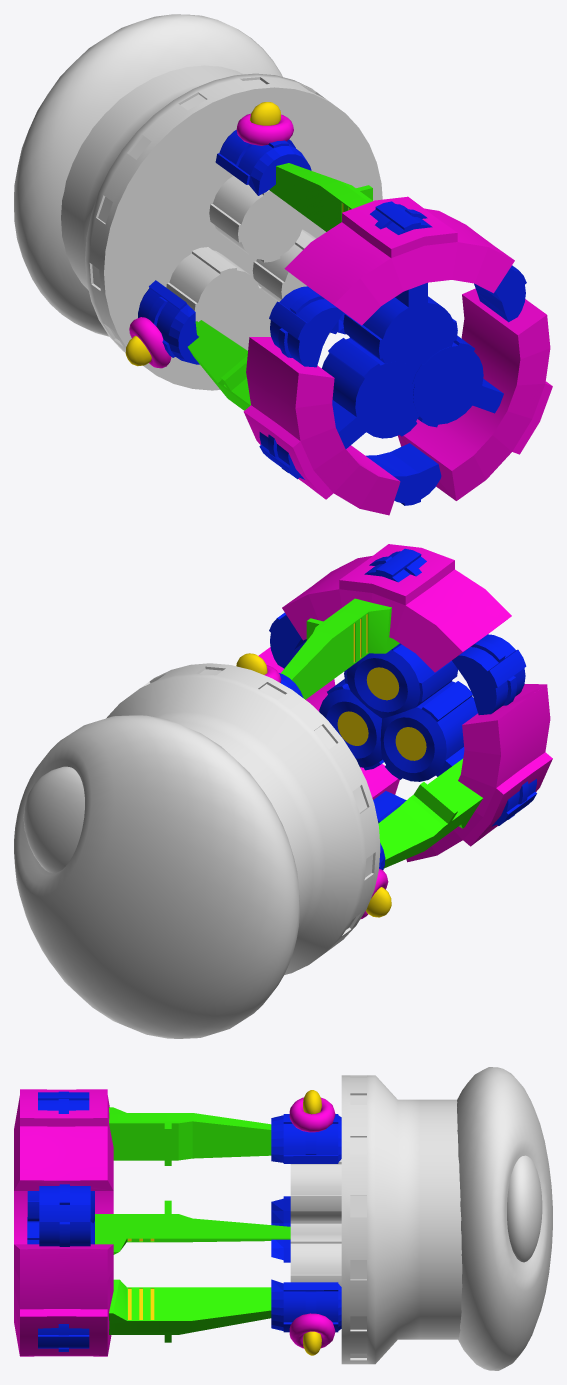
Rendered from RotWeaponShokai.FBX.
3 renders of one model, top to bottom at view 1: azimuth 30°, elevation 25°; view 2: azimuth 150°, elevation 25°; view 3: azimuth 270°, elevation 25°, orthographic. The views are drawn at different scales.
Parts seen in each view (by area): view 1: ParteRotatoria, Cylinder011, Box004, CanoDret, CanoDalt, CanoEsquerre; view 2: Cylinder011, ParteRotatoria, CanoDret, CanoDalt, Sphere002, CanoEsquerre; view 3: ParteRotatoria, Cylinder011, Box004, Sphere002, CanoDalt, CanoEsquerre.
Part boxes in pixels (x1,y1,x2,y2): ParteRotatoria: [125, 102, 552, 515]; Cylinder011: [14, 14, 382, 390]; Box004: [166, 176, 316, 339]; CanoDret: [322, 338, 419, 448]; CanoDalt: [343, 282, 457, 367]; CanoEsquerre: [412, 335, 503, 427]; Cylinder011: [14, 663, 380, 1038]; ParteRotatoria: [236, 544, 552, 919]; CanoDret: [380, 681, 477, 781]; CanoDalt: [344, 643, 457, 718]; Sphere002: [23, 766, 84, 873]; CanoEsquerre: [319, 679, 383, 770]; ParteRotatoria: [14, 1089, 341, 1356]; Cylinder011: [341, 1067, 552, 1370]; Box004: [290, 1159, 341, 1286]; Sphere002: [507, 1155, 542, 1262]; CanoDalt: [27, 1191, 94, 1223]; CanoEsquerre: [27, 1217, 94, 1244].
Size of the model in its own units: 25.78 by 48.29 by 27.66.
